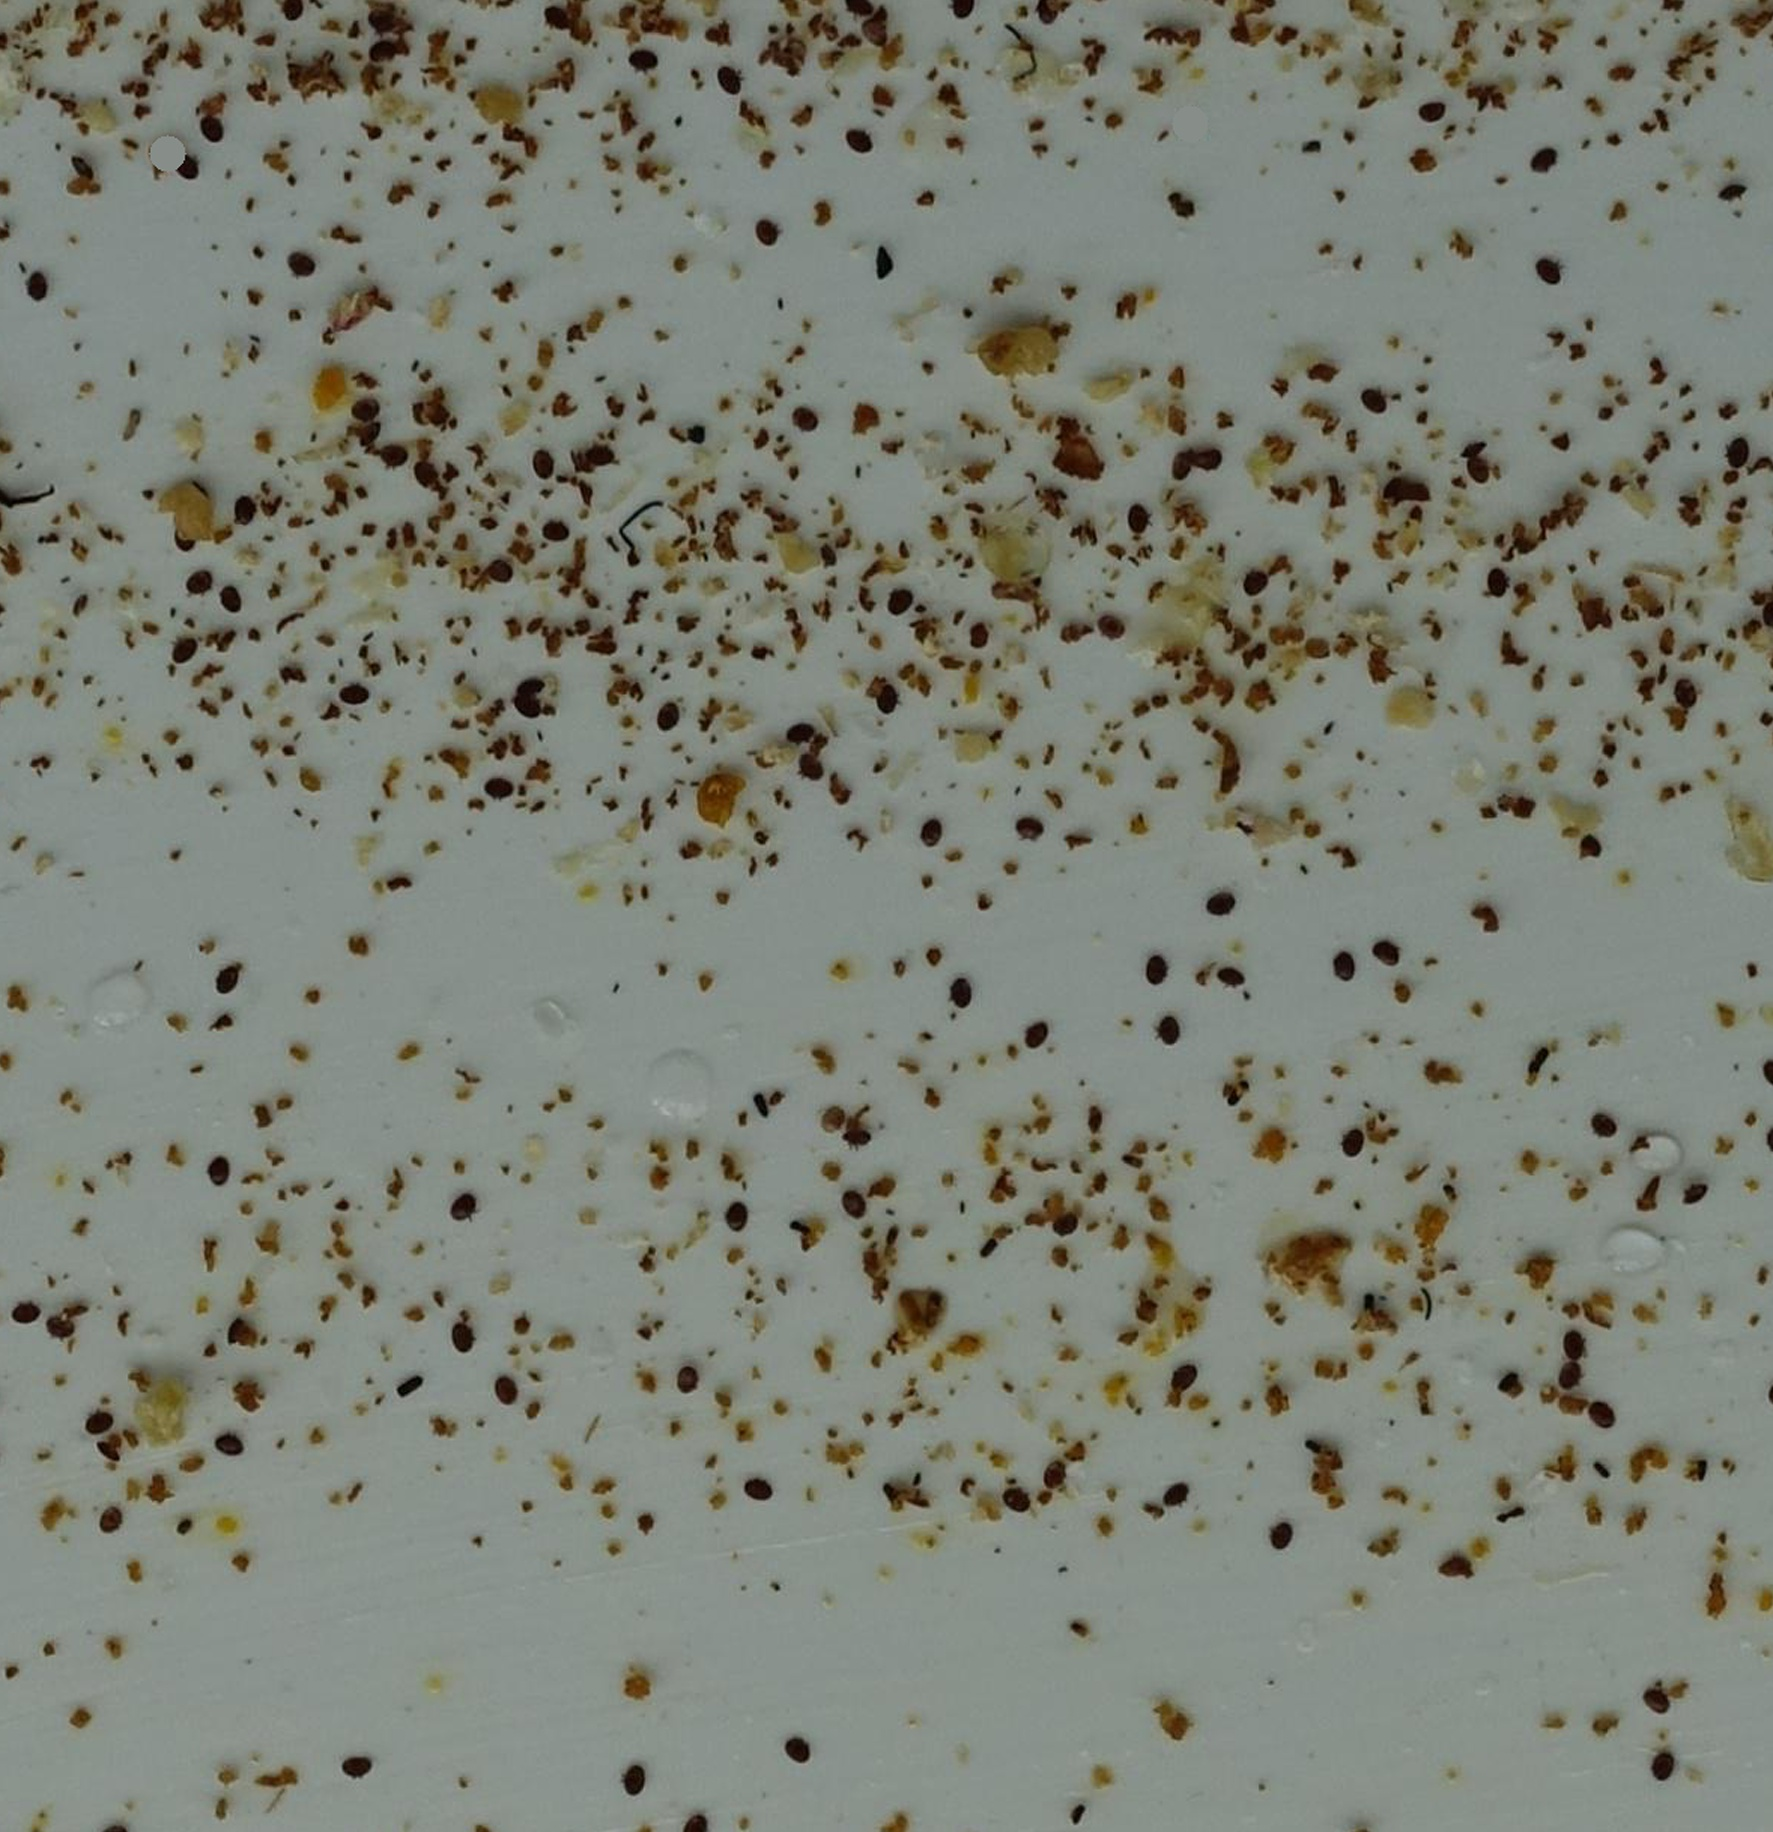Varroa: (1371, 469, 1415, 514), (1452, 425, 1497, 469), (1711, 172, 1755, 214), (162, 517, 206, 559), (213, 1309, 255, 1351), (1587, 1114, 1621, 1155), (1112, 505, 1150, 540), (1537, 254, 1573, 288), (87, 1431, 119, 1469), (1479, 568, 1513, 602), (340, 1757, 373, 1793), (1524, 144, 1557, 178), (1330, 950, 1362, 985), (1464, 456, 1497, 489), (1645, 1745, 1678, 1778), (1675, 1173, 1708, 1206), (1641, 1685, 1673, 1717), (522, 450, 554, 483), (579, 440, 612, 473), (1012, 816, 1044, 851), (837, 1125, 869, 1160), (350, 394, 381, 429), (860, 16, 891, 51), (746, 1471, 775, 1506), (69, 155, 100, 188), (1168, 1366, 1199, 1399), (882, 587, 913, 620), (667, 1364, 700, 1395), (213, 963, 244, 996), (1416, 100, 1448, 132), (1196, 443, 1227, 476), (783, 721, 816, 752), (1215, 963, 1246, 995), (1160, 1484, 1191, 1515), (206, 1153, 237, 1184), (1371, 936, 1402, 967), (492, 1369, 523, 1400), (1340, 1129, 1369, 1161), (1205, 890, 1235, 923), (916, 819, 945, 852), (288, 249, 317, 281), (486, 774, 515, 806), (1140, 955, 1169, 988), (1266, 1524, 1295, 1556), (214, 1431, 244, 1462), (839, 129, 869, 160), (626, 46, 658, 75), (947, 978, 976, 1009), (1156, 1016, 1186, 1047), (1362, 388, 1392, 419), (1022, 1022, 1052, 1053), (8, 1300, 38, 1331), (797, 751, 826, 782), (376, 438, 406, 469), (196, 110, 226, 141), (168, 154, 200, 183), (370, 11, 399, 43), (1174, 455, 1204, 486), (1555, 1361, 1585, 1392), (826, 1107, 855, 1138), (1729, 440, 1758, 469), (1040, 1462, 1070, 1492), (842, 1191, 872, 1220), (236, 499, 265, 528), (1048, 1212, 1078, 1242), (183, 569, 213, 599), (1559, 1330, 1588, 1359), (414, 463, 443, 492), (618, 1767, 648, 1796), (360, 414, 389, 443), (25, 273, 52, 304), (518, 689, 546, 720), (543, 515, 571, 546), (451, 1194, 479, 1224), (756, 221, 783, 250), (487, 558, 515, 587), (340, 684, 368, 713), (87, 1412, 114, 1441), (783, 1734, 811, 1763), (46, 1313, 74, 1343), (1587, 1397, 1614, 1426), (708, 69, 738, 97), (1672, 684, 1699, 713), (221, 582, 249, 612), (396, 451, 425, 479), (867, 687, 895, 715), (1004, 1484, 1032, 1511), (1243, 571, 1269, 600), (170, 641, 196, 671), (450, 1323, 476, 1351), (370, 41, 396, 69), (654, 698, 680, 726), (792, 409, 818, 435), (97, 1506, 123, 1533), (1093, 610, 1117, 638), (723, 1201, 747, 1228)
